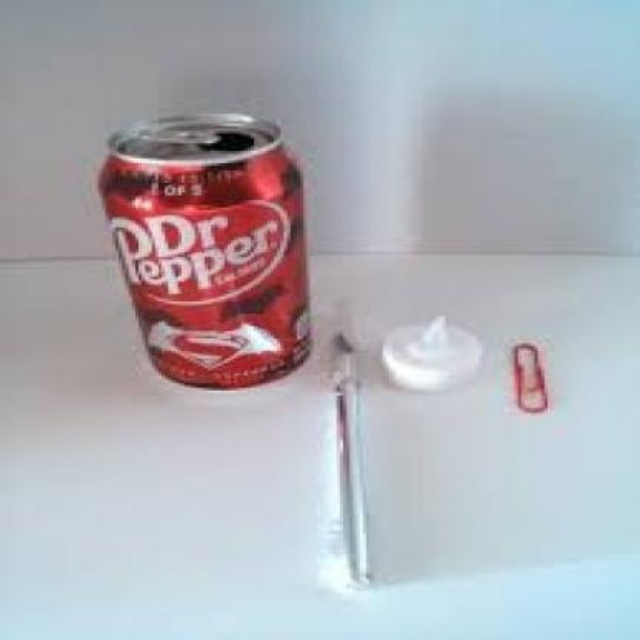trash: (98, 114, 309, 386)
